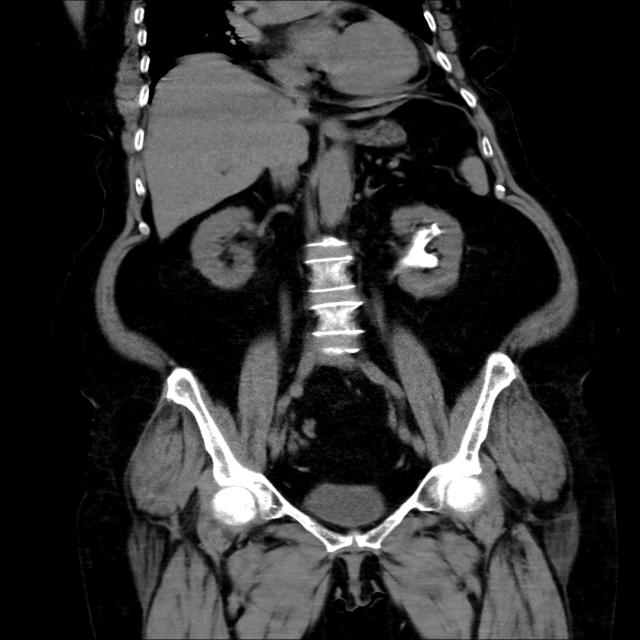kidneystone: (402, 224, 442, 268)
